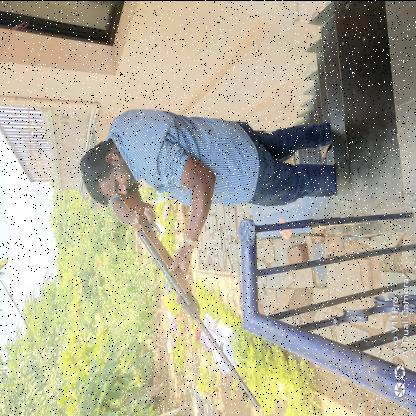rifle: (116, 178, 262, 412)
